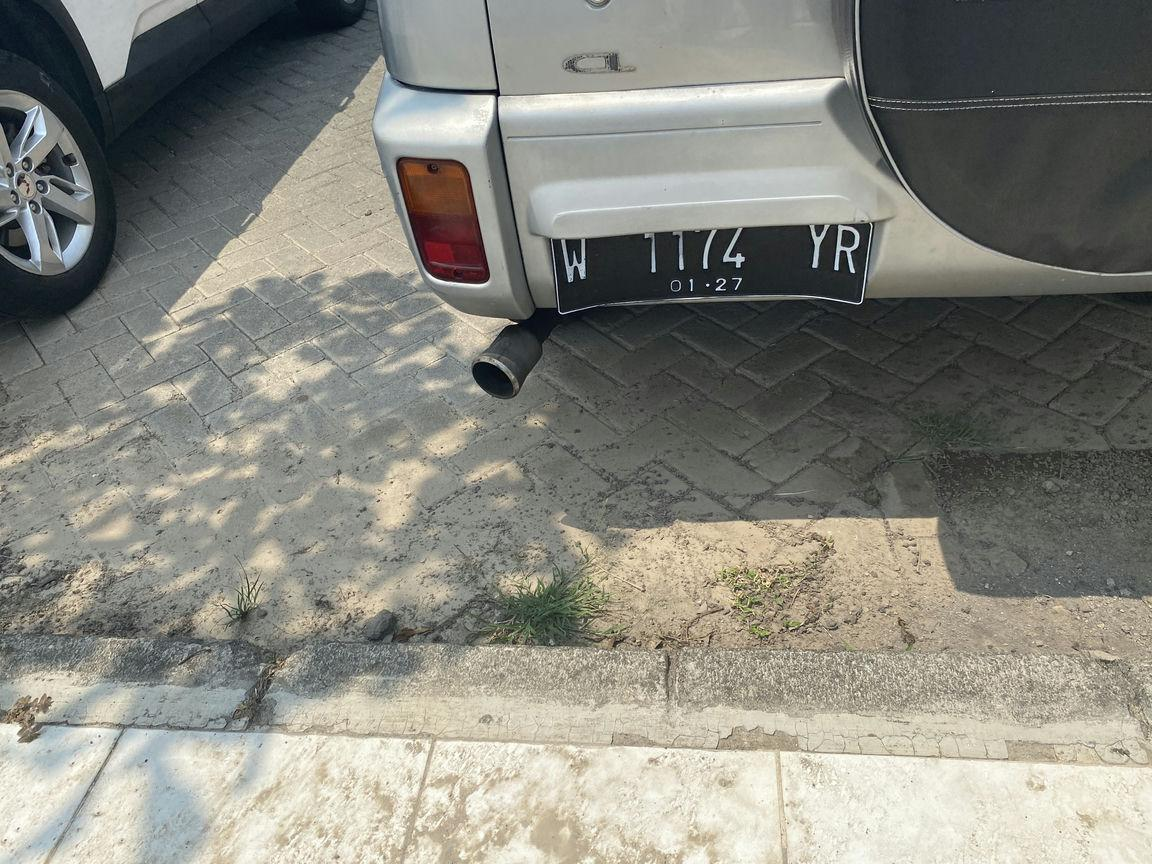plat: (549, 223, 873, 315)
